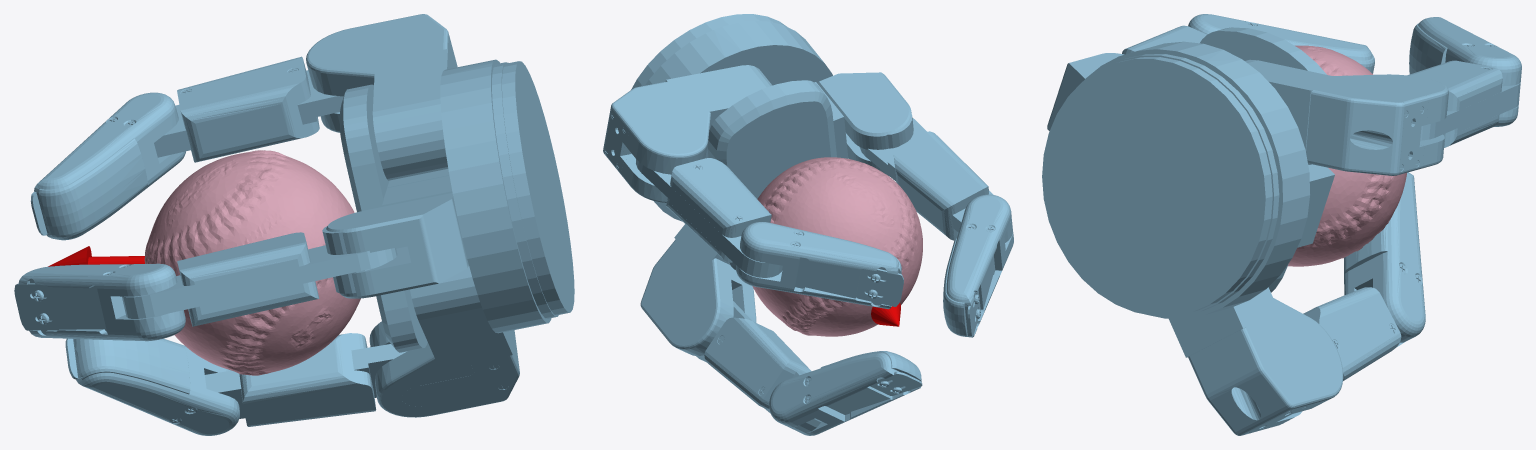
3 views of the same model, side by side, from view 1: azimuth 30°, elevation 25°; view 2: azimuth 150°, elevation 25°; view 3: azimuth 270°, elevation 25° (orthographic). The views are drawn at different scales.
Parts seen in each view (by area): view 1: world, baseball.stl; view 2: world, baseball.stl; view 3: world, baseball.stl.
Boxes of the visible parts, x1,y1,x2,y2 form: world: (14, 14, 574, 435); baseball.stl: (144, 150, 360, 375); world: (603, 14, 1013, 435); baseball.stl: (752, 157, 922, 336); world: (1042, 14, 1521, 435); baseball.stl: (1288, 45, 1406, 266).
Size of the model in its own units: 0.1851 by 0.1413 by 0.1565.
